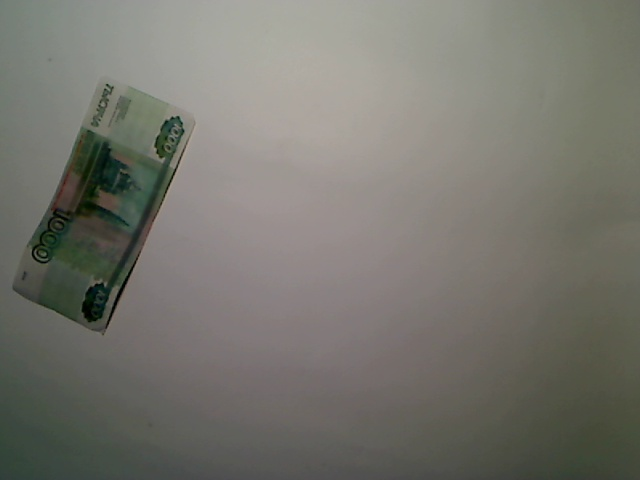banknotes: (7, 72, 203, 344)
